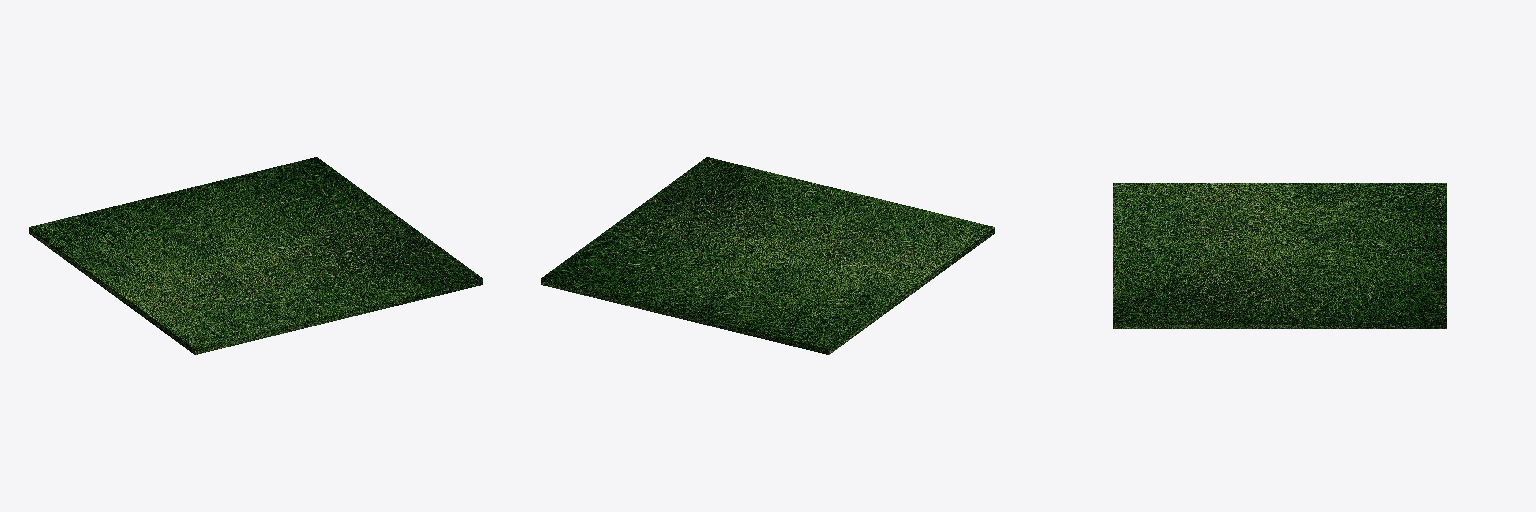
3 renders of one model, left to right at view 1: azimuth 30°, elevation 25°; view 2: azimuth 150°, elevation 25°; view 3: azimuth 270°, elevation 25°, orthographic.
Parts seen in each view (by area): view 1: Box001; view 2: Box001; view 3: Box001.
Boxes of the visible parts, box(x1,y1,x2,y2) form: Box001: box(29, 157, 482, 354); Box001: box(541, 157, 994, 354); Box001: box(1113, 183, 1446, 328).
Size of the model in its own units: 50 by 1 by 50.
1 materials, 1 textured.